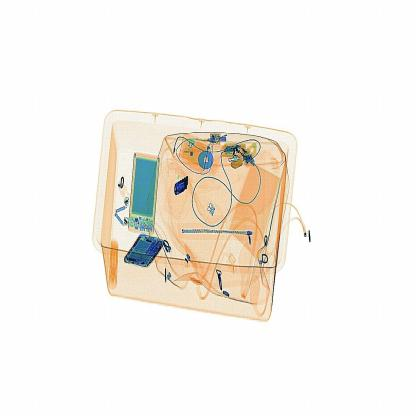knife: (169, 166, 192, 197)
